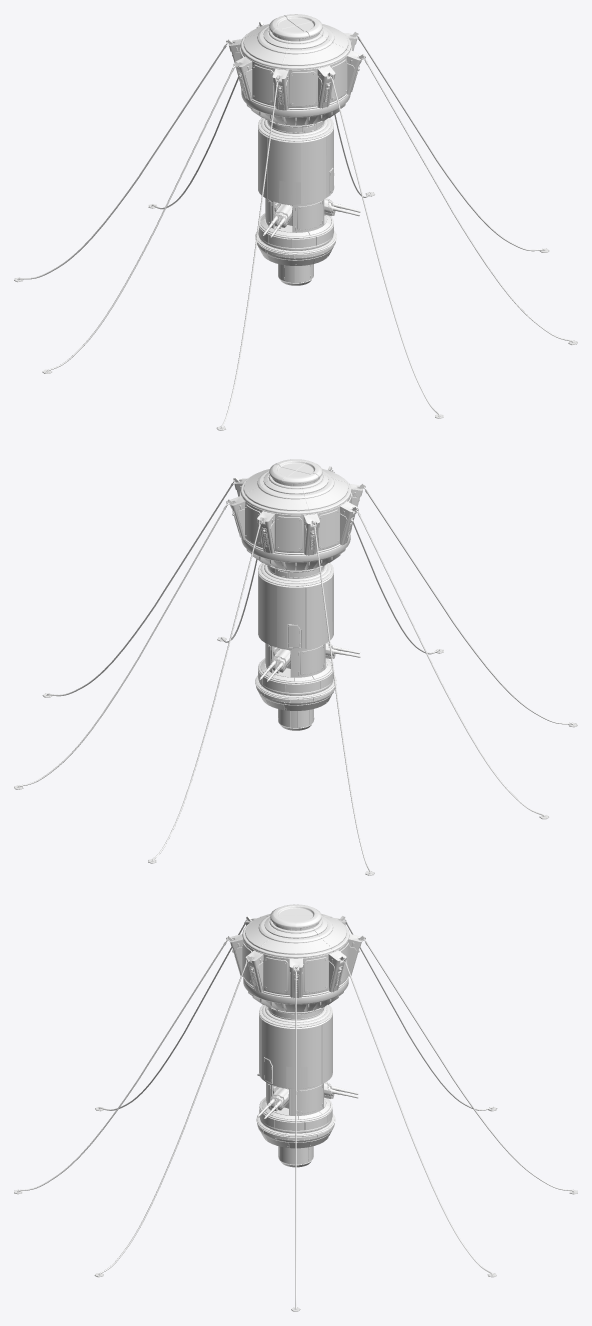
File: KB3D_FTW_PropRobotObserver_A_grp.glb
The picture shows the model from 3 angles, top to bottom: view 1: azimuth 30°, elevation 25°; view 2: azimuth 150°, elevation 25°; view 3: azimuth 270°, elevation 25°; orthographic projection. The views are drawn at different scales.
Visible parts, largest first — view 1: KB3D_FTW_PropRobotObserver_A_Main; view 2: KB3D_FTW_PropRobotObserver_A_Main; view 3: KB3D_FTW_PropRobotObserver_A_Main.
Part boxes in pixels (x1,y1,x2,y2): KB3D_FTW_PropRobotObserver_A_Main: (14,14,577,430); KB3D_FTW_PropRobotObserver_A_Main: (14,459,577,875); KB3D_FTW_PropRobotObserver_A_Main: (14,904,577,1311).
Size of the model in its own units: 40.26 by 21.93 by 40.26.
12 materials, 1 textured.
